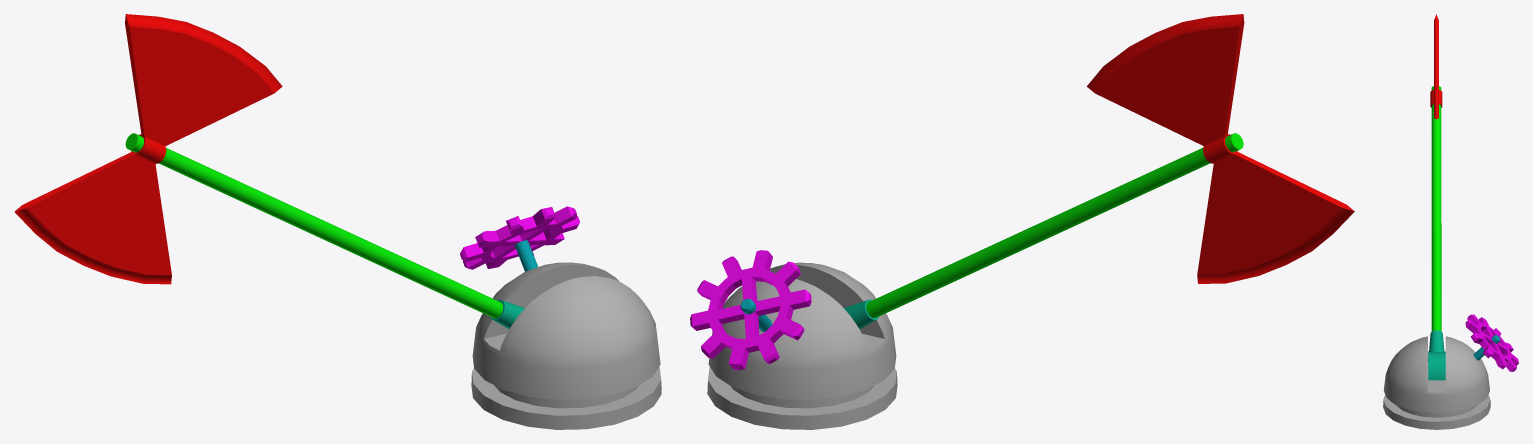
File: Axe.fbx
3 renders of one model, left to right at view 1: azimuth 30°, elevation 25°; view 2: azimuth 150°, elevation 25°; view 3: azimuth 270°, elevation 25°, orthographic. The views are drawn at different scales.
Parts seen in each view (by area): view 1: pCylinder6, pSphere3, WheelCrankShape; view 2: pCylinder6, pSphere3, WheelCrankShape; view 3: pSphere3, pCylinder6, WheelCrankShape, TurretY1, Barrel1.
Part boxes in pixels (box(x1,y1,x2,y2)): pCylinder6: box(14, 14, 502, 318); pSphere3: box(471, 262, 661, 429); WheelCrankShape: box(460, 206, 579, 271); pCylinder6: box(866, 14, 1354, 318); pSphere3: box(707, 262, 897, 429); WheelCrankShape: box(690, 250, 811, 370); pSphere3: box(1383, 336, 1490, 429); pCylinder6: box(1430, 14, 1442, 331); WheelCrankShape: box(1465, 314, 1518, 371); TurretY1: box(1428, 352, 1445, 380); Barrel1: box(1429, 330, 1444, 351).
Bounding box in the file's own units: 7.67 × 5.58 × 2.52.
